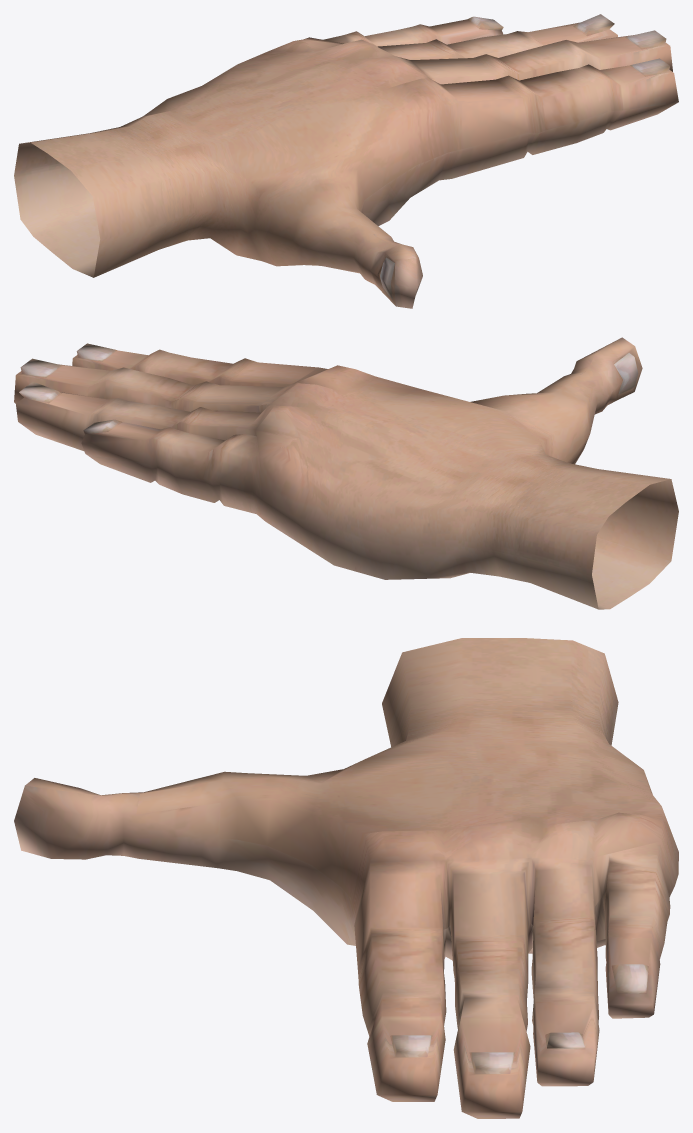
The model's file is left_handShape.obj.
3 views of the same model, one above another, from view 1: azimuth 30°, elevation 25°; view 2: azimuth 150°, elevation 25°; view 3: azimuth 270°, elevation 25° (orthographic). The views are drawn at different scales.
Parts seen in each view (by area): view 1: left_hand CharacterRoot; view 2: left_hand CharacterRoot; view 3: left_hand CharacterRoot.
Boxes of the visible parts, box(x1,y1,x2,y2) form: left_hand CharacterRoot: box(14, 14, 678, 308); left_hand CharacterRoot: box(14, 337, 678, 609); left_hand CharacterRoot: box(14, 638, 678, 1118).
Bounding box in the file's own units: 23.31 × 4.52 × 16.17.
Materials: 1 (1 with a texture image).
